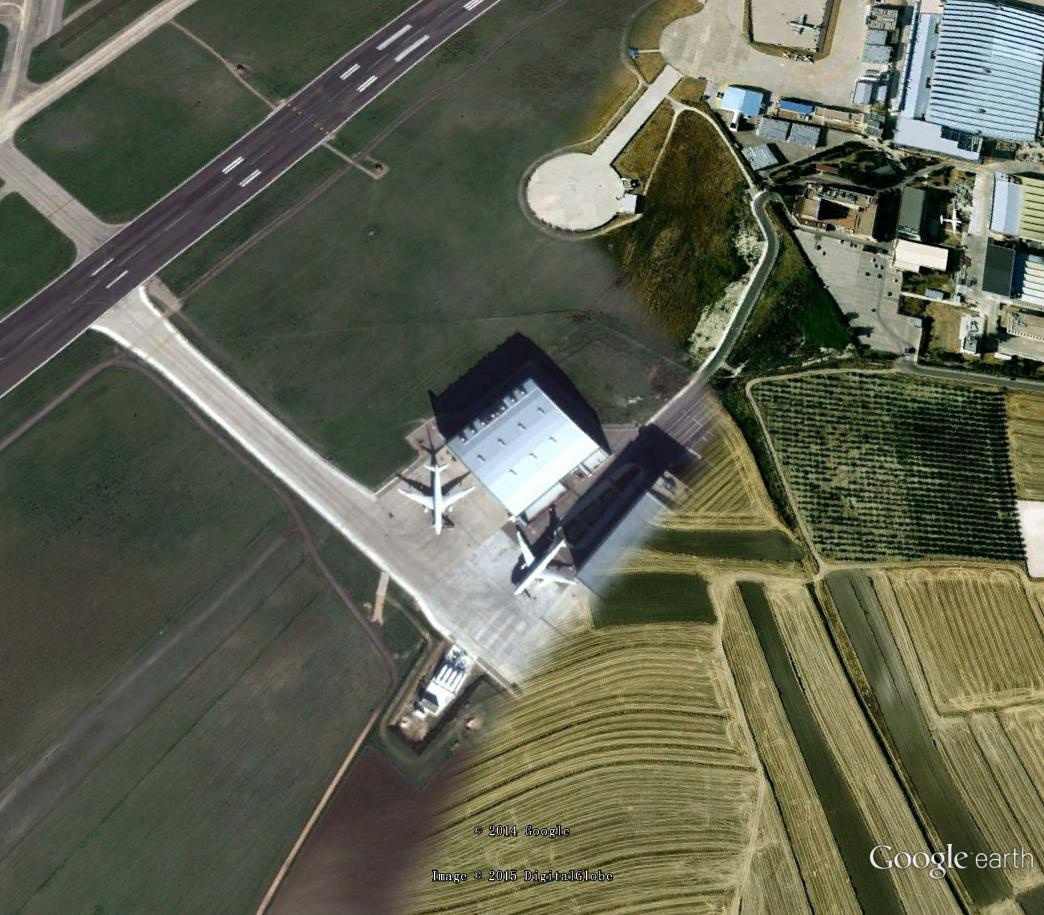aircraft: (396, 459, 480, 540), (508, 522, 585, 601), (933, 202, 972, 240), (789, 13, 822, 39)
